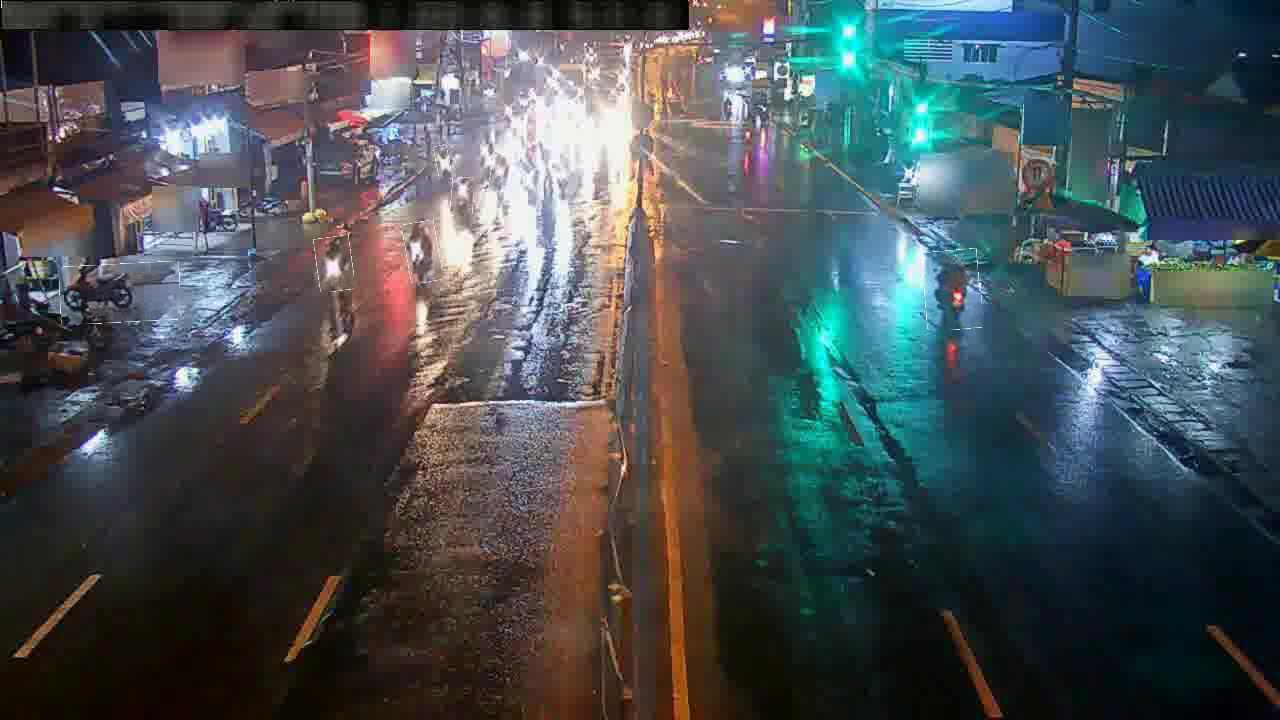motorbike: (60, 262, 181, 324), (924, 249, 982, 330), (405, 221, 441, 283), (315, 236, 354, 292), (489, 153, 512, 193), (451, 178, 475, 214), (435, 146, 451, 180)
